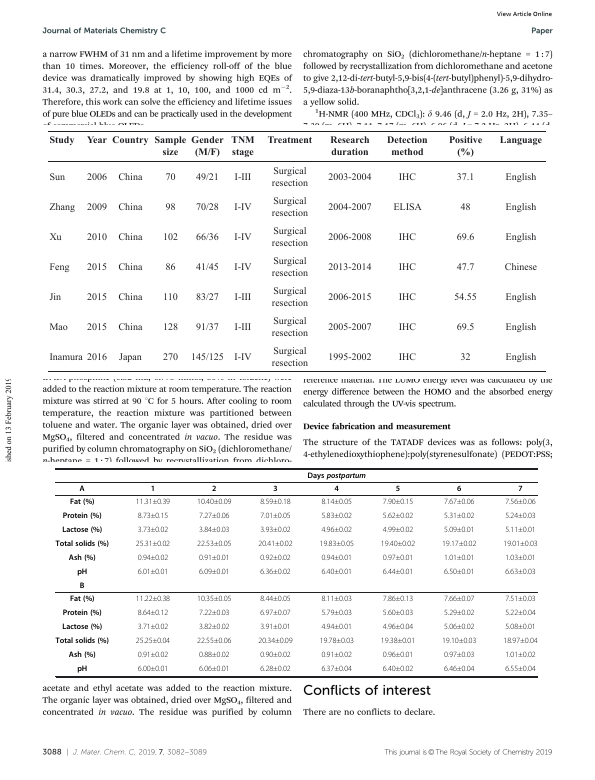borderless: (47, 130, 546, 371), (55, 467, 537, 676)
cell: (386, 136, 428, 159), (329, 136, 370, 159), (270, 196, 309, 220), (270, 167, 309, 190), (270, 226, 309, 249), (270, 256, 309, 279), (270, 286, 309, 309), (270, 316, 309, 339), (270, 346, 309, 369), (448, 136, 483, 159), (153, 136, 187, 159), (190, 136, 224, 159), (230, 136, 255, 159), (55, 539, 110, 549), (55, 636, 110, 646), (307, 471, 367, 480), (327, 202, 372, 214), (266, 136, 313, 147), (498, 136, 543, 147), (327, 173, 372, 184), (327, 232, 372, 243), (327, 262, 372, 273), (327, 292, 372, 303), (327, 322, 372, 333), (327, 352, 372, 363), (61, 525, 103, 535), (61, 622, 103, 632), (111, 136, 149, 147), (62, 511, 102, 521), (62, 608, 102, 618), (504, 202, 537, 214), (503, 262, 538, 273), (48, 352, 83, 363), (190, 352, 224, 363), (504, 173, 537, 184), (504, 232, 537, 243), (504, 292, 537, 303), (504, 322, 537, 333), (504, 352, 537, 363), (392, 202, 422, 214), (48, 202, 76, 214), (117, 202, 143, 214), (48, 136, 75, 147), (195, 202, 219, 214), (117, 173, 143, 184), (117, 232, 143, 243), (117, 262, 143, 273), (117, 292, 143, 303), (117, 322, 143, 333), (68, 553, 96, 563), (68, 650, 96, 660), (195, 173, 219, 184), (86, 202, 108, 214), (195, 232, 219, 243), (195, 262, 219, 273), (195, 292, 219, 303), (453, 292, 477, 303), (195, 322, 219, 333), (118, 352, 142, 363), (69, 497, 95, 507), (69, 594, 95, 604), (135, 498, 171, 505), (196, 498, 232, 505), (135, 540, 171, 547), (196, 540, 232, 547), (257, 540, 293, 547), (319, 540, 355, 547), (380, 540, 416, 547), (441, 540, 477, 547), (502, 540, 538, 547), (135, 595, 171, 602), (196, 595, 232, 602), (135, 637, 171, 644), (196, 637, 232, 644), (257, 637, 293, 644), (319, 637, 355, 644), (380, 637, 416, 644), (441, 637, 477, 644), (502, 637, 538, 644), (86, 136, 108, 147), (85, 173, 107, 184), (85, 232, 107, 243), (48, 262, 70, 273), (86, 262, 108, 273), (86, 292, 108, 303), (86, 322, 108, 333), (86, 352, 108, 363), (259, 498, 292, 505), (320, 498, 353, 505), (504, 498, 537, 505), (259, 512, 292, 519), (320, 512, 353, 519), (504, 512, 537, 519), (259, 526, 292, 533), (320, 526, 353, 533), (504, 526, 537, 533), (259, 554, 292, 561), (320, 554, 353, 561), (504, 554, 537, 561), (259, 568, 292, 575), (320, 568, 353, 575), (504, 568, 537, 575), (259, 595, 292, 602), (320, 595, 353, 602), (504, 595, 537, 602), (259, 609, 292, 616), (320, 609, 353, 616), (504, 609, 537, 616), (259, 623, 292, 630), (320, 623, 353, 630), (504, 623, 537, 630), (259, 651, 292, 658), (320, 651, 353, 658), (504, 651, 537, 658), (259, 665, 292, 672), (320, 665, 353, 672), (504, 665, 537, 672), (233, 202, 252, 214), (382, 498, 414, 505), (443, 498, 475, 505), (137, 512, 169, 519), (198, 512, 230, 519), (382, 512, 414, 519), (443, 512, 475, 519), (137, 526, 169, 533), (198, 526, 230, 533), (382, 526, 414, 533), (443, 526, 475, 533), (137, 554, 169, 561), (198, 554, 230, 561), (382, 554, 414, 561), (443, 554, 475, 561), (137, 568, 169, 575), (198, 568, 230, 575), (382, 568, 414, 575), (443, 568, 475, 575), (382, 595, 414, 602), (443, 595, 475, 602), (137, 609, 169, 616), (198, 609, 230, 616), (382, 609, 414, 616), (443, 609, 475, 616), (137, 623, 169, 630), (198, 623, 230, 630), (382, 623, 414, 630), (443, 623, 475, 630), (137, 651, 169, 658), (198, 651, 230, 658), (382, 651, 414, 658), (443, 651, 475, 658), (137, 665, 169, 672), (198, 665, 230, 672), (382, 665, 414, 672), (443, 665, 475, 672), (397, 173, 417, 184), (455, 173, 475, 184), (397, 232, 417, 243), (455, 232, 475, 243), (397, 262, 417, 273), (455, 262, 475, 273), (397, 292, 417, 303), (48, 322, 68, 333), (397, 322, 417, 333), (455, 322, 475, 333), (397, 352, 417, 363), (233, 173, 252, 184), (233, 232, 252, 243), (233, 262, 252, 273), (233, 292, 252, 303), (233, 322, 252, 333), (233, 352, 252, 363), (48, 173, 66, 184), (162, 232, 179, 243), (162, 322, 179, 333), (162, 352, 179, 363), (162, 292, 178, 303), (48, 232, 62, 243), (48, 292, 62, 303), (164, 202, 176, 214), (459, 202, 471, 214), (164, 173, 176, 184), (164, 262, 176, 273), (459, 352, 471, 363), (76, 567, 88, 577), (76, 664, 88, 674), (79, 484, 86, 494), (333, 484, 340, 494), (150, 484, 156, 494), (211, 484, 217, 494), (272, 484, 278, 494), (395, 484, 401, 494), (456, 484, 462, 494), (517, 484, 523, 494), (79, 581, 85, 591)
